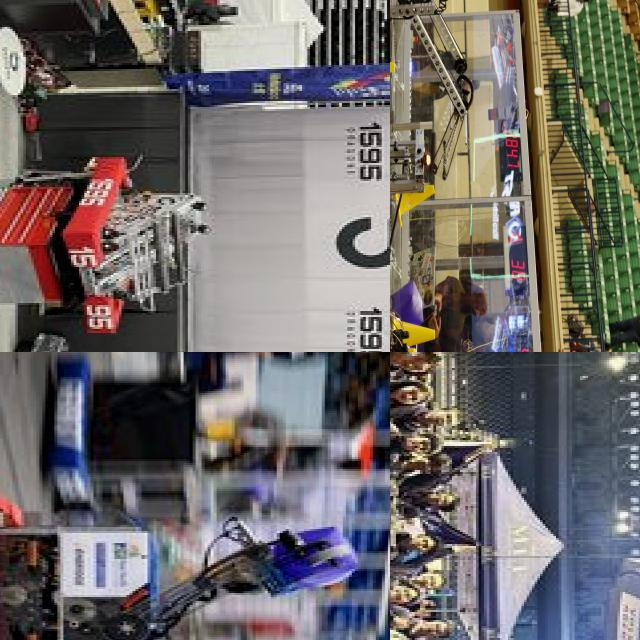FRC-Robots: (0, 504, 359, 640), (56, 151, 220, 341), (390, 30, 443, 340), (390, 0, 477, 174)
